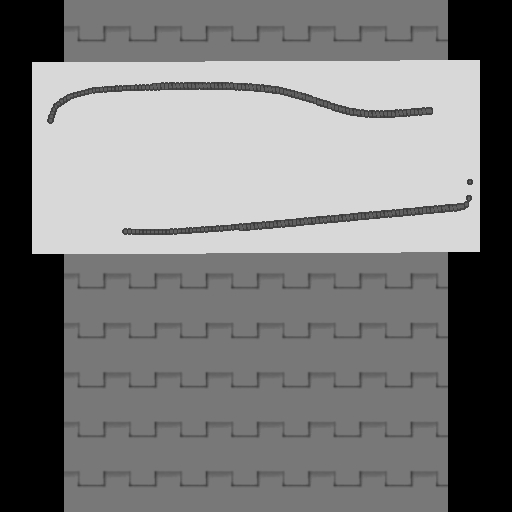Defect: (43, 119, 124, 241)
